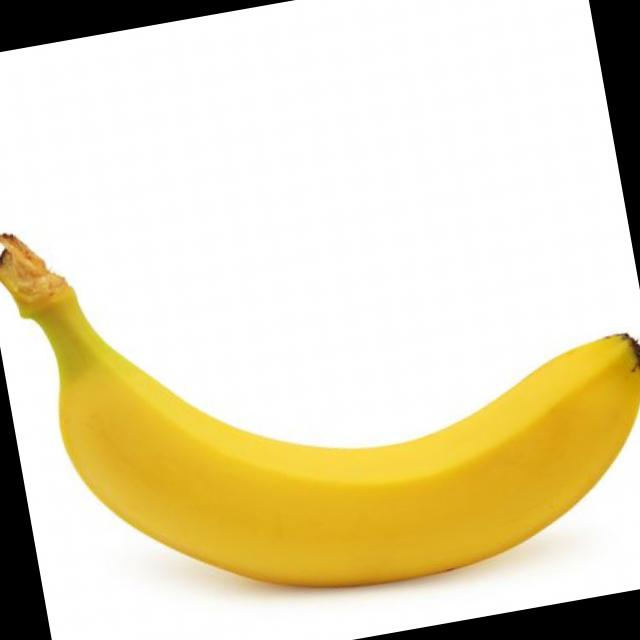banana: (44, 240, 640, 636)
